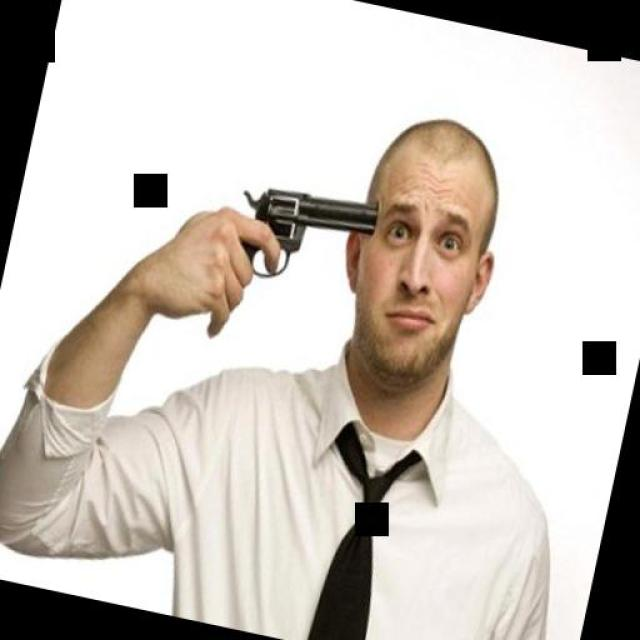gun: (220, 166, 380, 299)
